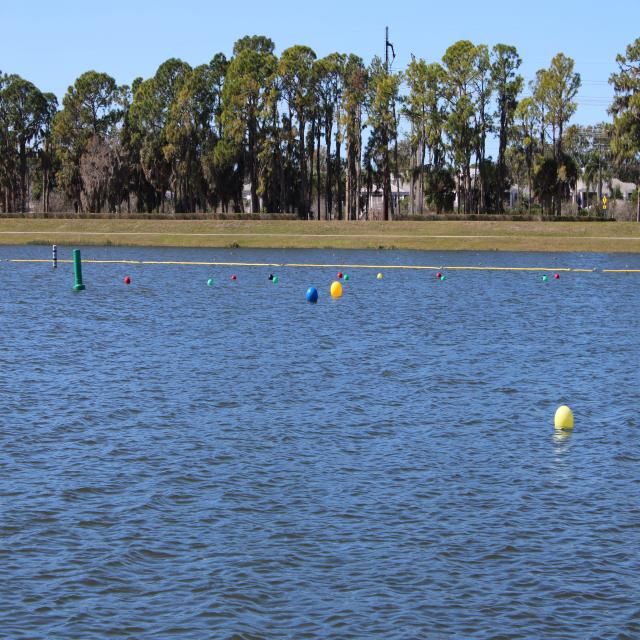blue-buoy: (306, 286, 317, 304)
green-buoy: (208, 278, 214, 286)
green-column-buoy: (72, 248, 86, 290)
red-buoy: (555, 274, 561, 281), (233, 275, 238, 282), (339, 273, 344, 279)
yellow-buoy: (555, 405, 575, 431), (332, 281, 344, 299), (378, 273, 384, 281)
